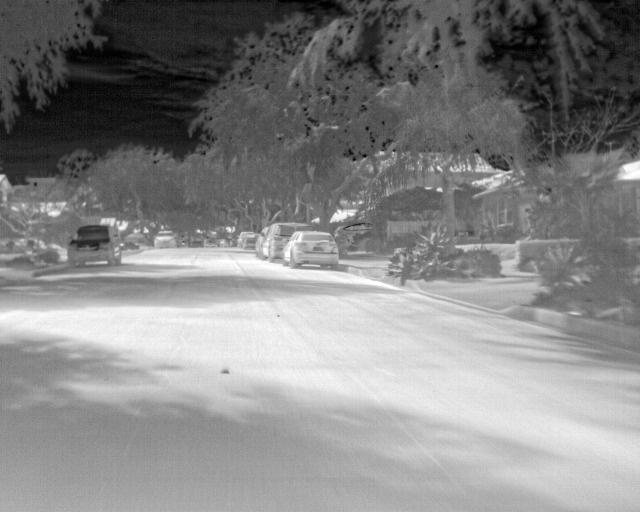car: (66, 224, 122, 267), (283, 229, 339, 269), (260, 221, 314, 262), (255, 225, 270, 259), (153, 229, 177, 249), (237, 232, 257, 251), (189, 237, 204, 249)
